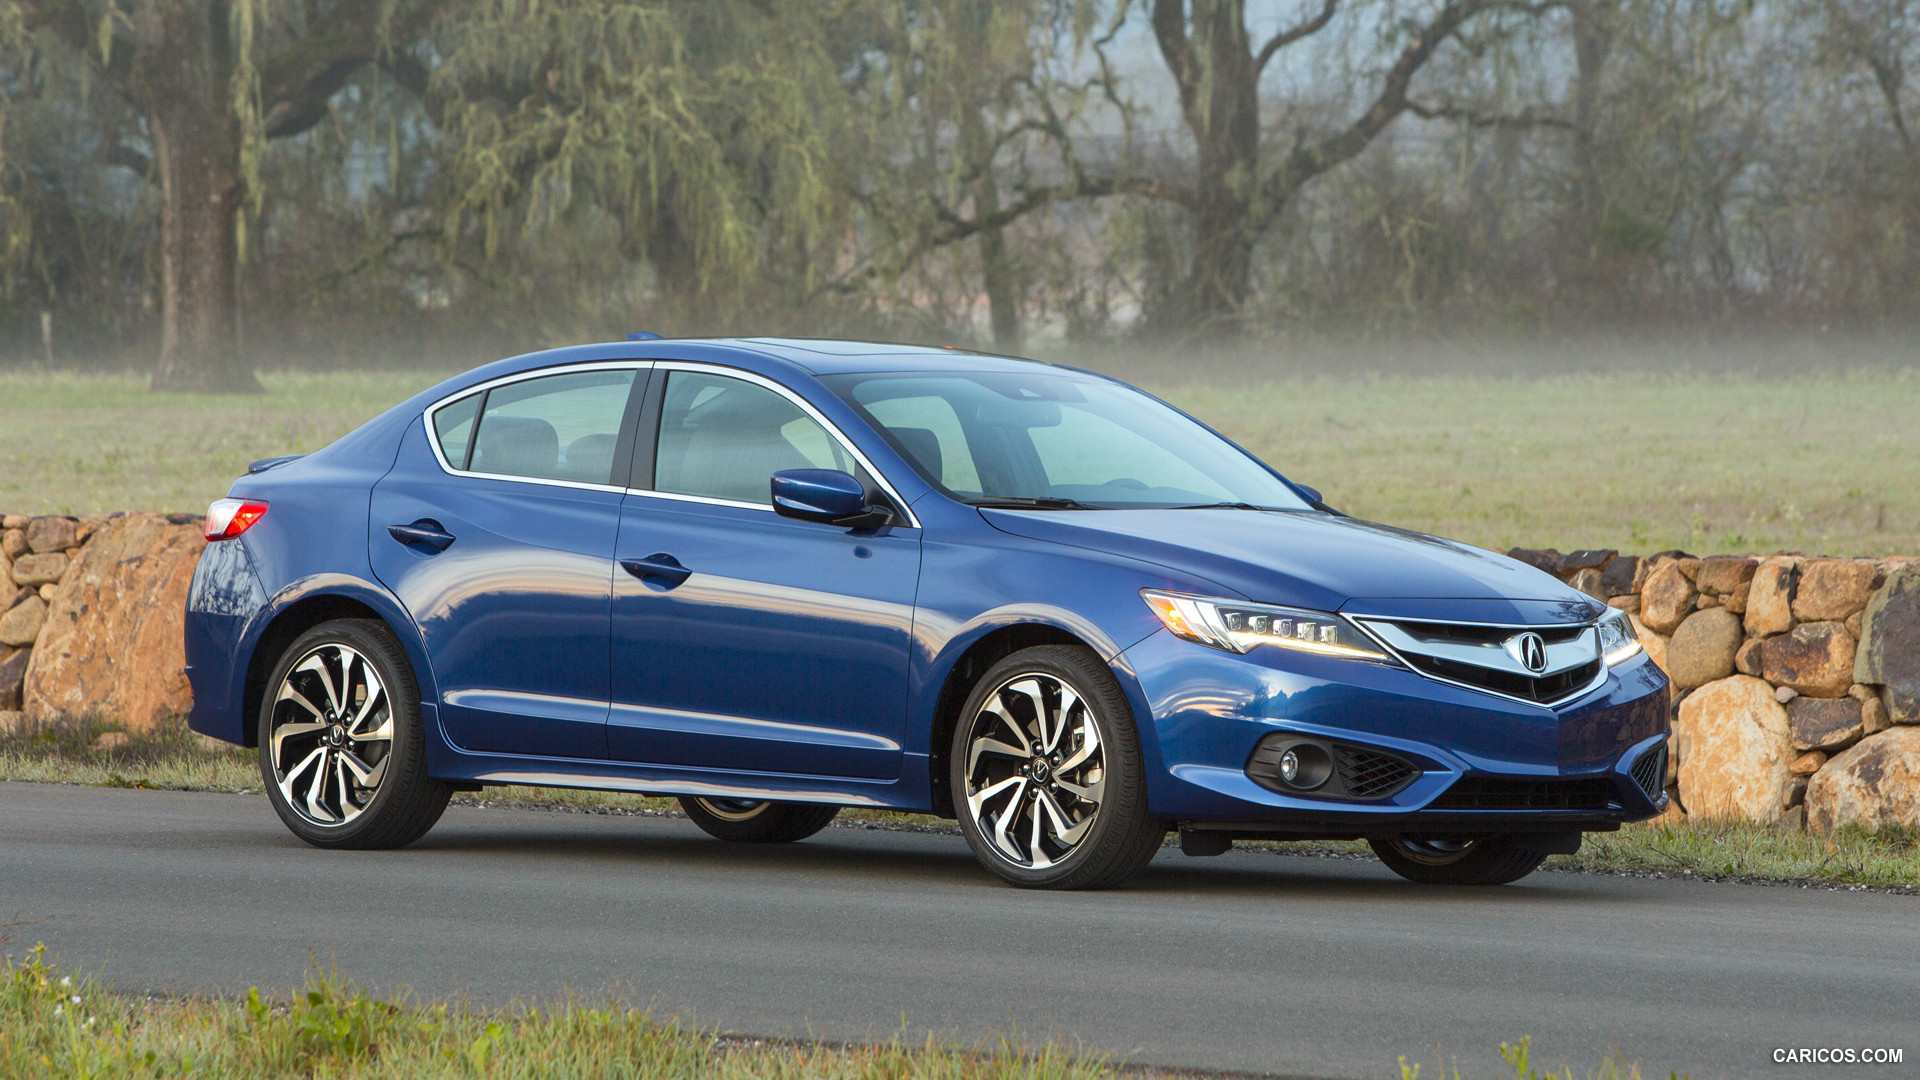Fog Lamp & Scope: (1246, 731, 1425, 811)
Front: (992, 518, 1668, 839)
Front Bumper: (1133, 705, 1677, 825)
Grill: (1338, 611, 1610, 712)
Headlight: (1137, 584, 1400, 675)
